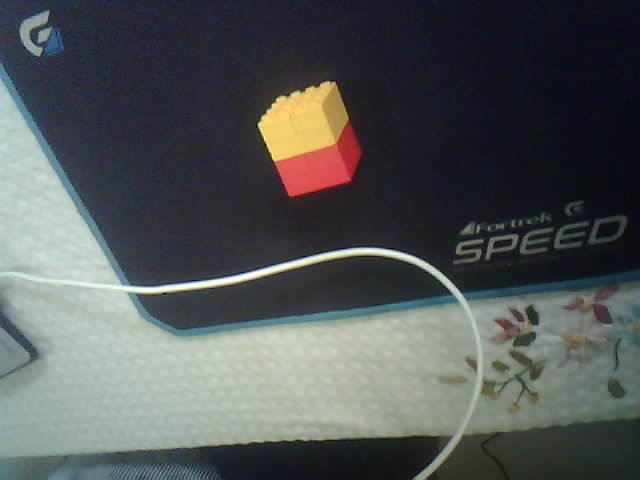lego: (256, 80, 364, 198)
